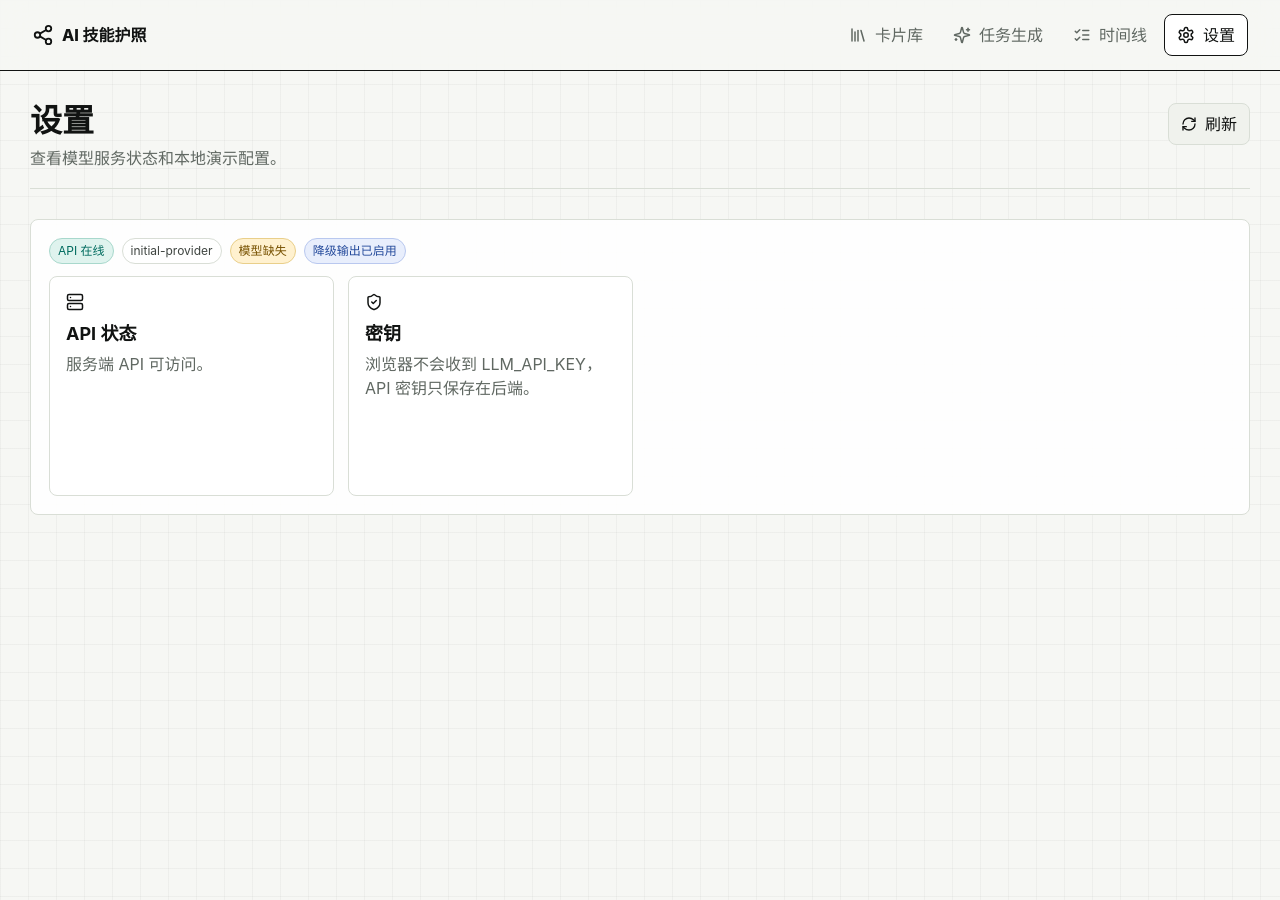
Test case: App › keeps the newest settings health refresh when responses finish out of order
Expected: the text "initial-provider" is shown, [122, 238, 222, 264]
Step 1. Click the button "刷新" → (1209,124), box [1168, 103, 1250, 145]
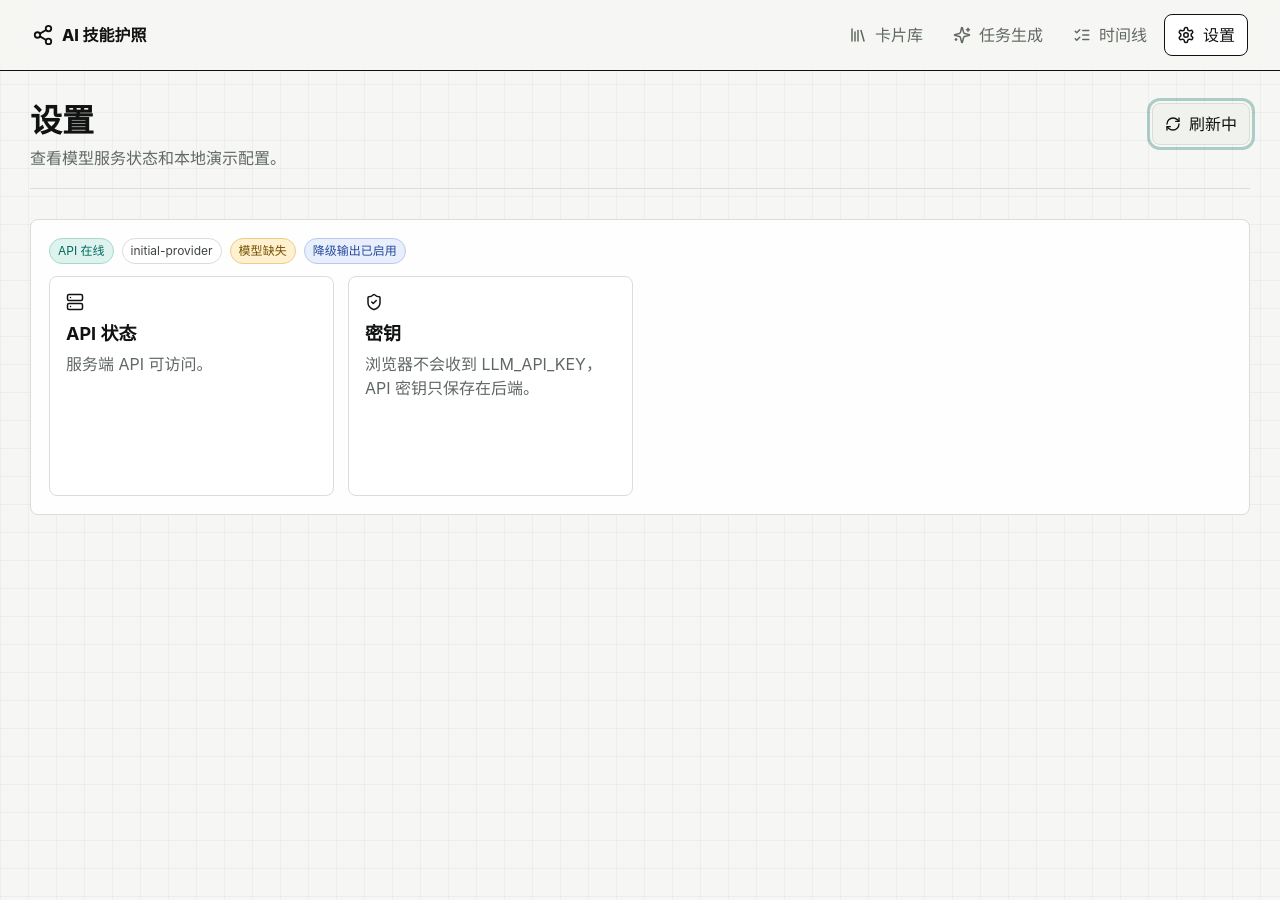
Step 2. Click the button "刷新中" → (1201,124), box [1152, 103, 1250, 145]
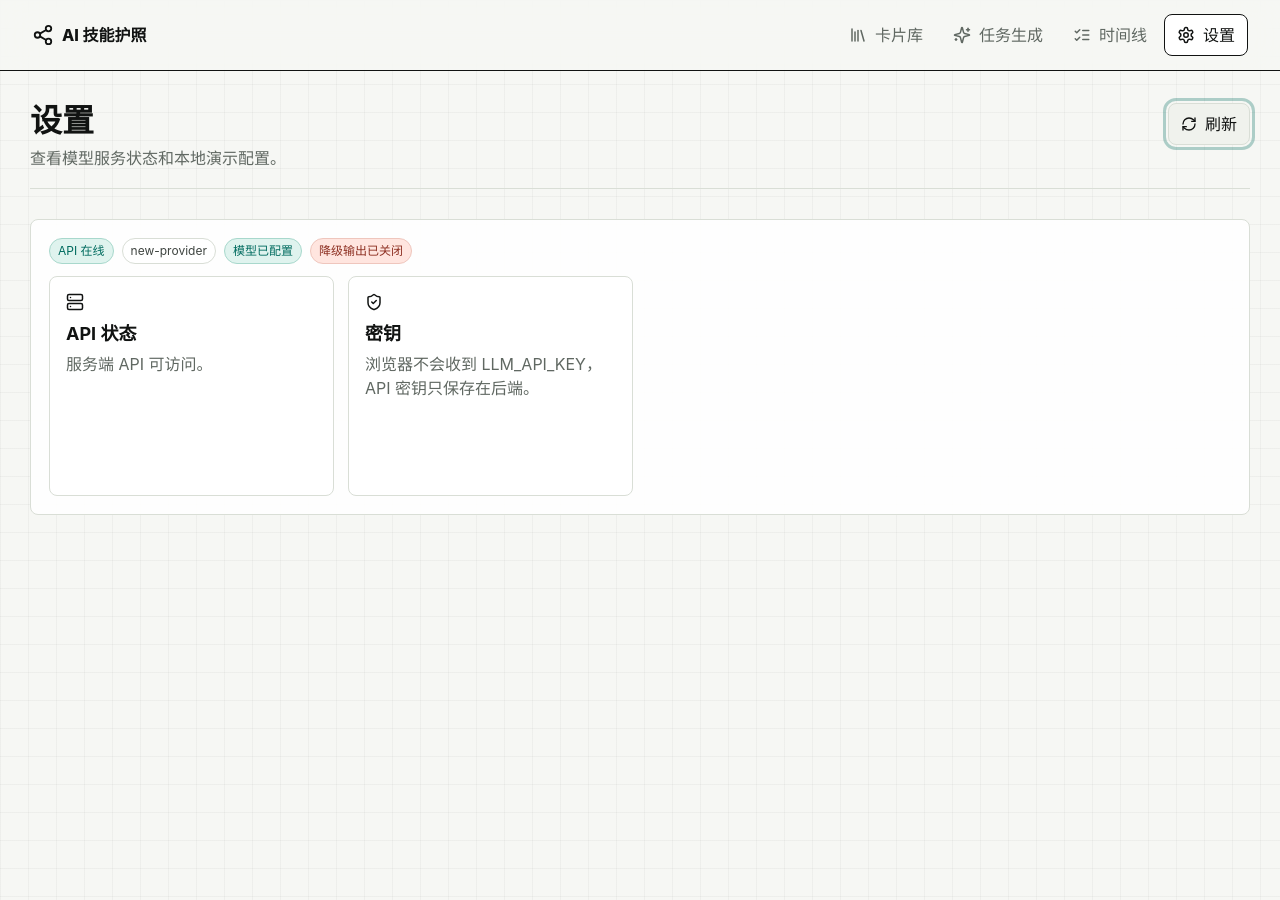
Expected: the text "浏览器不会收到 LLM_API_KEY，API 密钥只保存在后端。" is shown, [365, 352, 616, 400]
Now the text "new-provider" is shown, box [122, 238, 216, 264]
